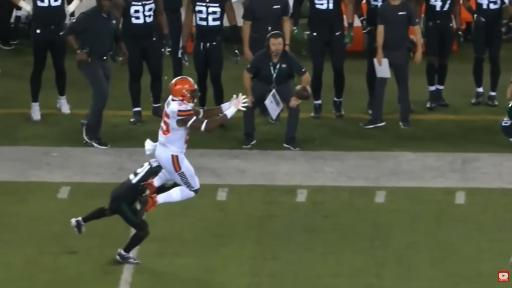Helmet: (170, 77, 199, 106), (507, 102, 511, 119)
Jersey: (113, 159, 162, 204), (158, 97, 194, 154), (191, 0, 230, 42), (122, 0, 155, 38), (308, 0, 343, 32), (32, 0, 66, 30), (476, 0, 508, 23), (425, 0, 457, 23), (367, 0, 386, 27), (500, 117, 511, 139), (163, 0, 182, 12)
Player: (146, 77, 247, 210), (71, 160, 162, 264), (12, 0, 81, 120), (180, 0, 240, 108), (118, 0, 170, 124), (308, 0, 354, 118), (416, 0, 463, 110), (463, 0, 508, 106), (355, 0, 387, 114), (355, 0, 386, 114), (500, 103, 511, 141)
